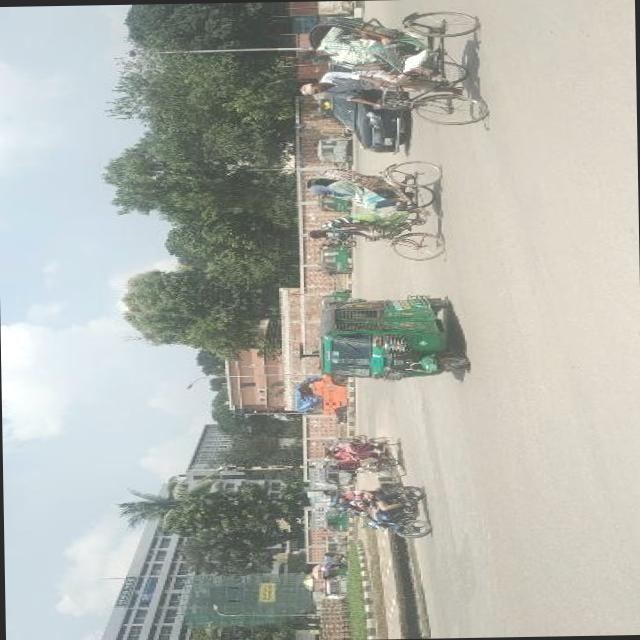car: (348, 101, 404, 158)
motorcycle: (293, 8, 491, 127), (305, 161, 447, 262), (312, 292, 468, 382), (356, 484, 431, 540), (322, 436, 403, 477), (314, 133, 352, 165), (315, 247, 351, 274), (316, 196, 352, 213), (322, 509, 348, 532), (320, 471, 354, 487), (324, 574, 348, 593), (322, 535, 347, 553), (320, 487, 342, 498), (321, 554, 347, 563), (332, 414, 347, 424)
